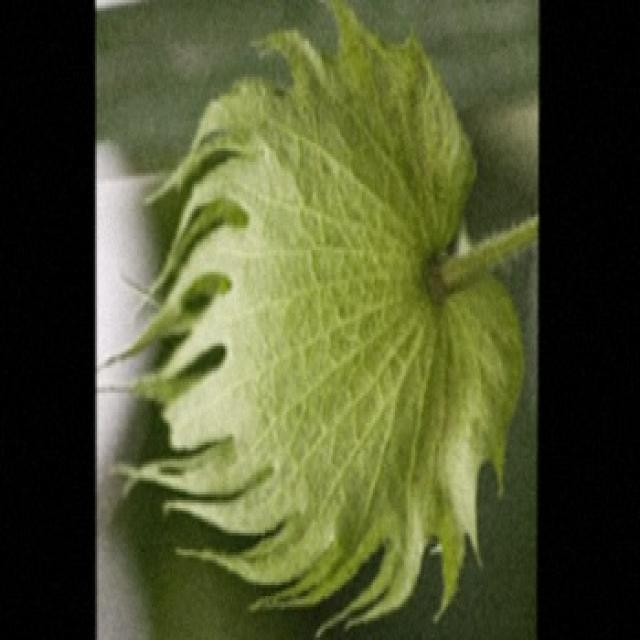Cotton Bud: (127, 36, 534, 616)
